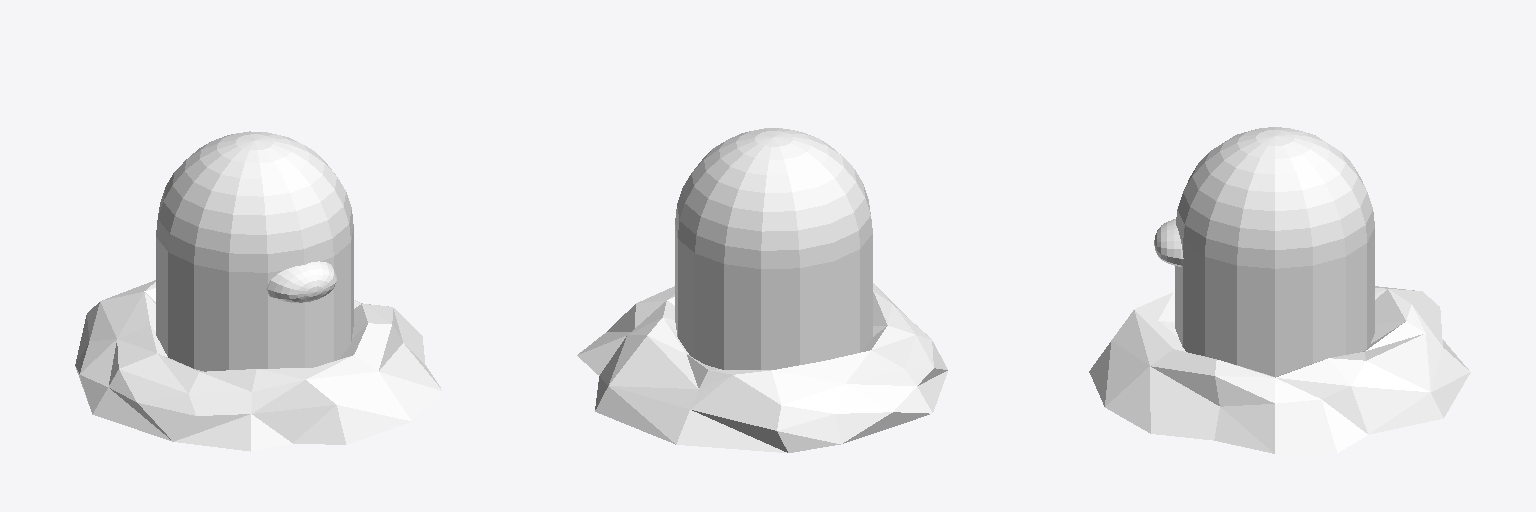
The model's file is Digda.obj.
3 views of the same model, side by side, from view 1: azimuth 30°, elevation 25°; view 2: azimuth 150°, elevation 25°; view 3: azimuth 270°, elevation 25° (orthographic).
Bounding box in the file's own units: 2.93 × 2.01 × 2.95.